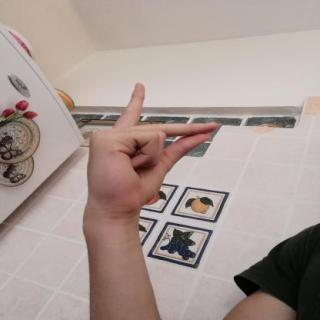TAA: (68, 76, 227, 226)
